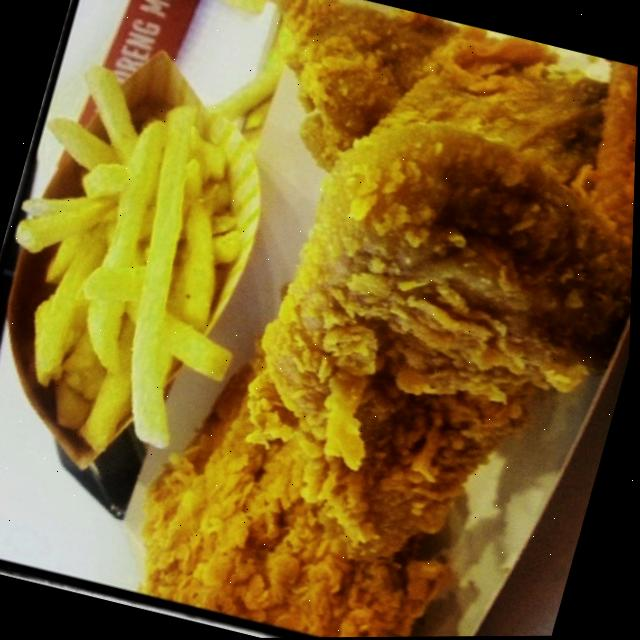鸡肉料理 含炸鸡: (91, 0, 640, 639)
